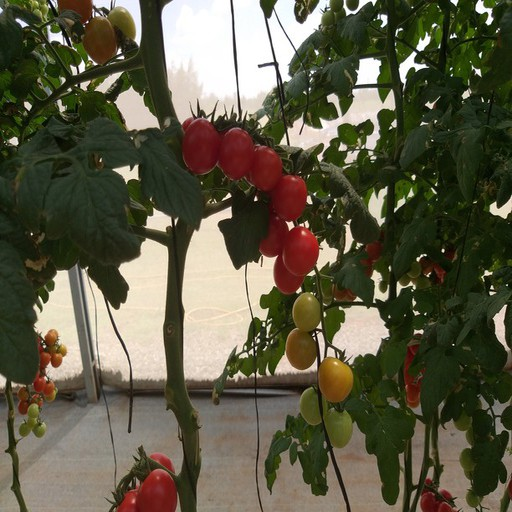mixed tomato bunch: (13, 332, 62, 441), (391, 331, 448, 407), (328, 242, 380, 300), (398, 251, 457, 284)
red tomato bunch: (184, 113, 317, 291), (105, 448, 178, 512), (417, 478, 466, 512)
